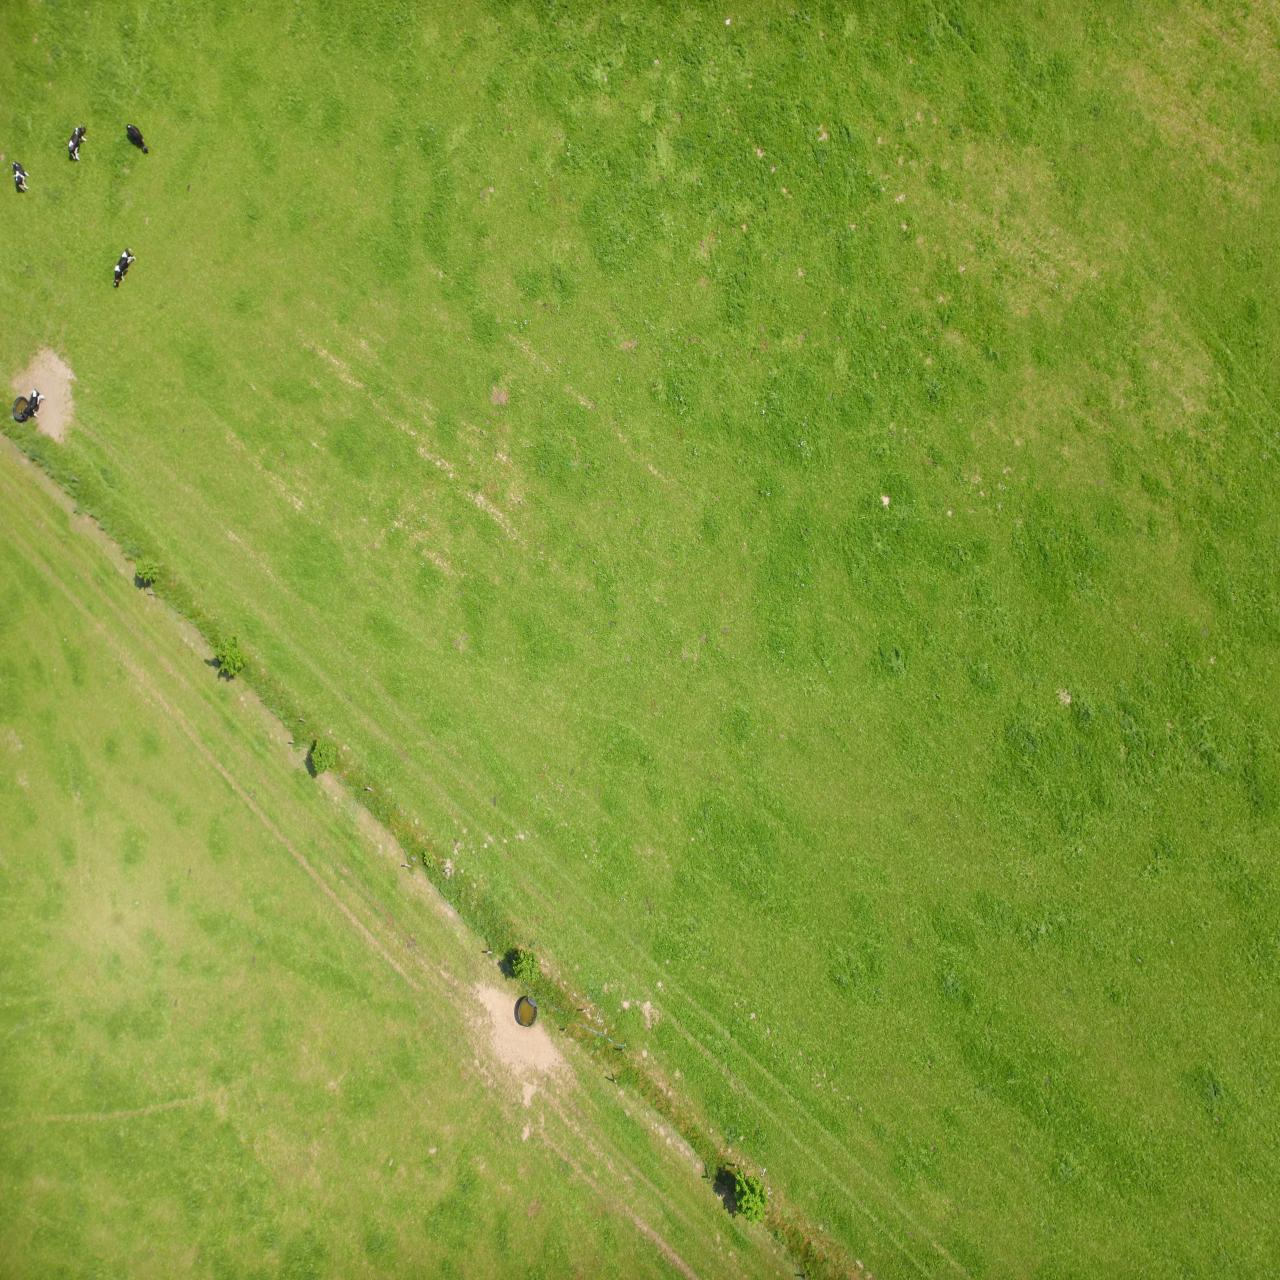cow: (1144, 993, 1166, 1032), (1235, 862, 1260, 891), (1131, 1126, 1153, 1156), (1194, 1119, 1212, 1155), (1252, 1089, 1266, 1118)
